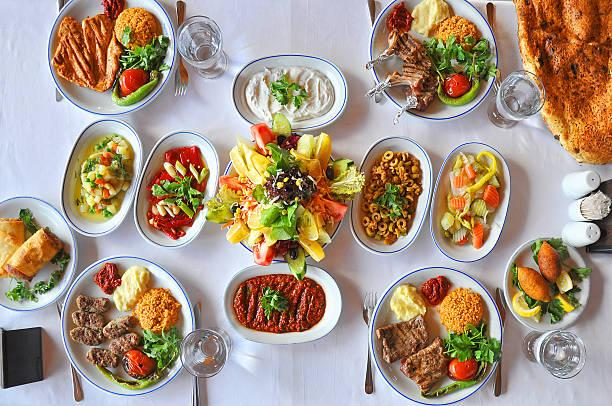Braised Crucian Carp: (60, 255, 195, 397), (366, 266, 503, 399), (367, 1, 496, 125), (47, 0, 176, 116), (221, 138, 340, 261), (60, 118, 151, 239), (132, 129, 224, 243), (428, 140, 512, 262), (350, 137, 435, 255), (223, 264, 341, 344), (505, 233, 594, 338), (230, 55, 349, 132), (1, 196, 78, 309)
